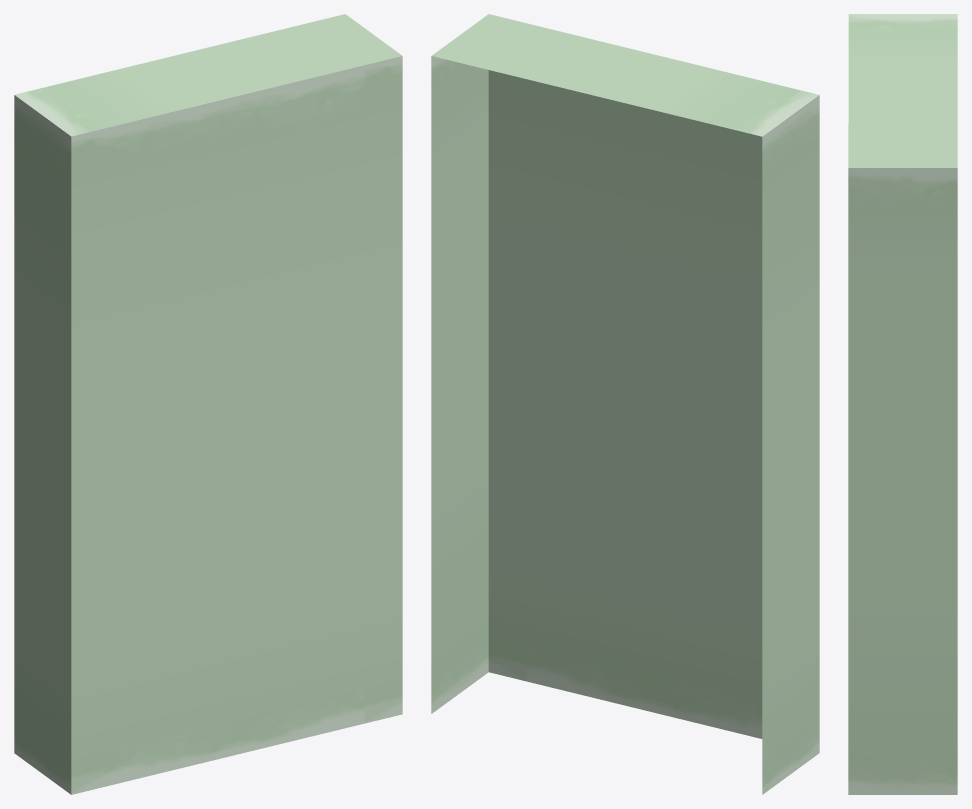
The model's file is mur_simple.fbx.
The picture shows the model from 3 angles, left to right: view 1: azimuth 30°, elevation 25°; view 2: azimuth 150°, elevation 25°; view 3: azimuth 270°, elevation 25°; orthographic projection. The views are drawn at different scales.
Parts seen in each view (by area): view 1: mur_simple; view 2: mur_simple; view 3: mur_simple.
Boxes of the visible parts, x1,y1,x2,y2 form: mur_simple: [14, 14, 402, 794]; mur_simple: [431, 14, 819, 794]; mur_simple: [848, 14, 957, 794].
Size of the model in its own units: 1 by 1.9 by 0.3.
